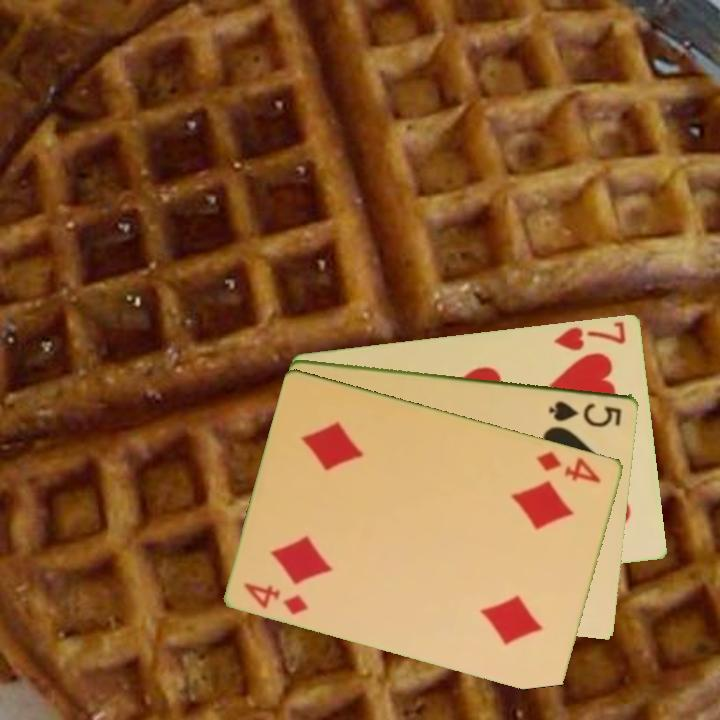4d: (240, 579, 312, 618), (533, 447, 604, 486)
5s: (545, 397, 625, 429)
7h: (550, 318, 629, 353)
